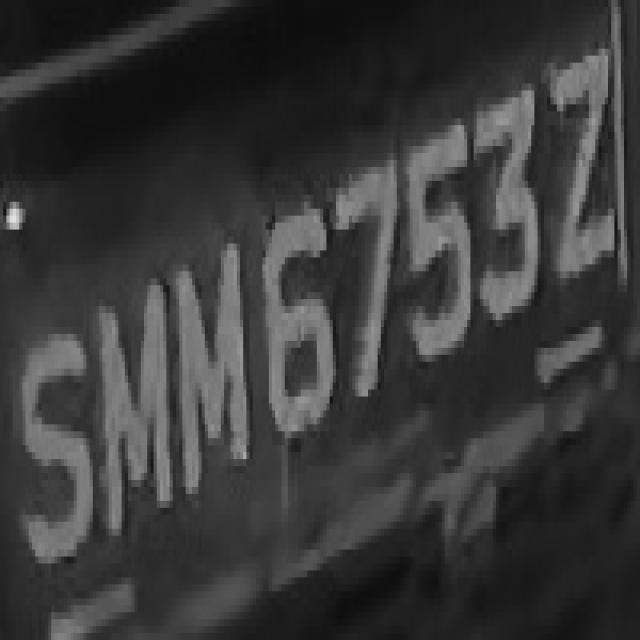3: (464, 90, 541, 348)
5: (387, 118, 483, 369)
6: (253, 181, 336, 466)
7: (317, 146, 400, 404)
M: (160, 236, 259, 515), (86, 264, 180, 536)
S: (10, 306, 96, 571)
Z: (541, 42, 627, 299)
